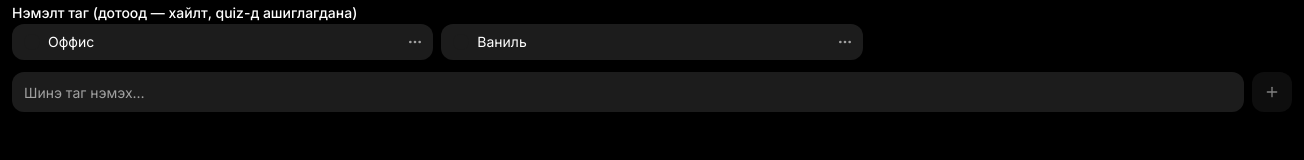
Test: CustomTagField › ticks a tag added from the input
Type "Уд" into the field named "Шинэ нэмэлт таг" at (628, 92), box 12,72 -> 1244,112
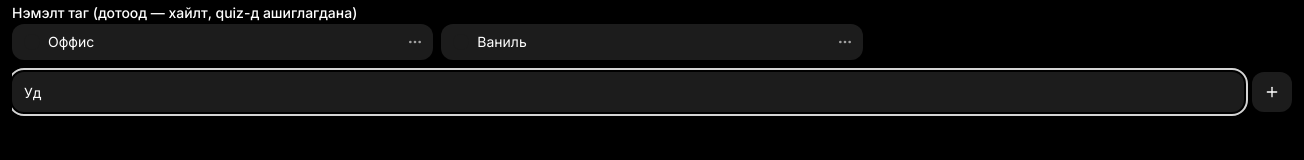
Click the button named "Таг нэмэх" at (1272, 92), box 1252,72 -> 1292,112
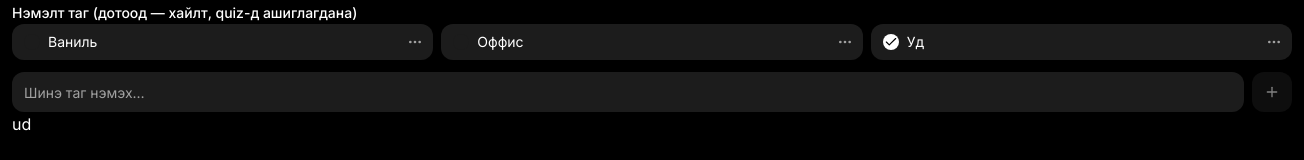
Now the text with test id "selected" reads "ud", box 12,114 -> 31,134
